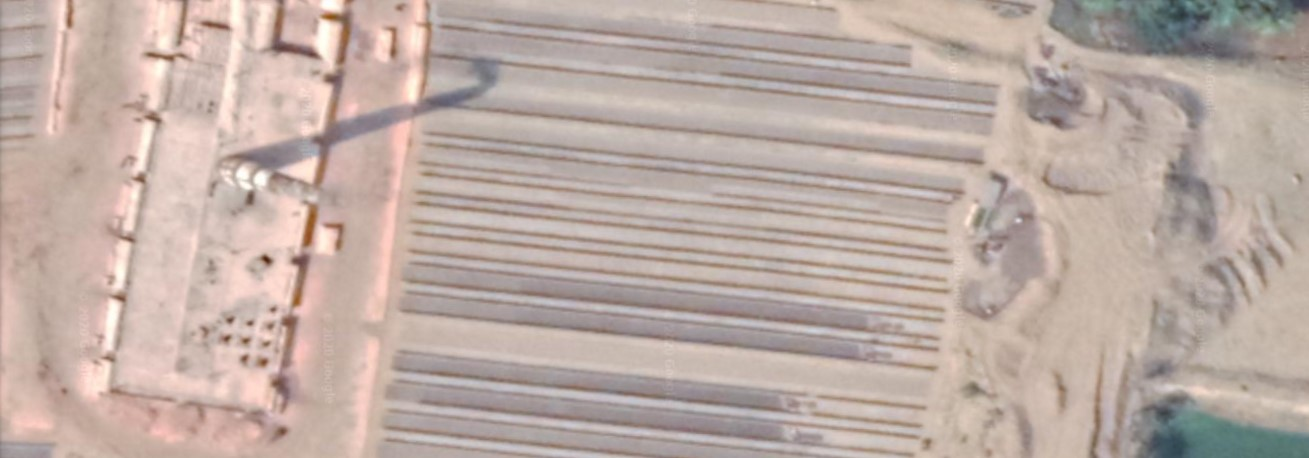kiln: (116, 7, 447, 414)
